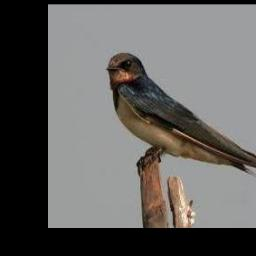Swallow: (107, 54, 256, 175)
